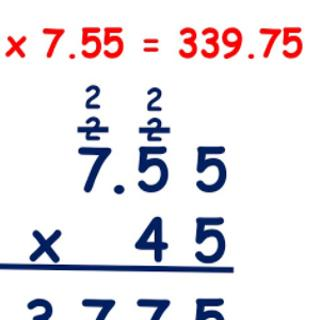.: (109, 180, 128, 200), (246, 49, 256, 64), (68, 51, 75, 62)
3: (174, 23, 199, 61), (197, 25, 222, 61)
4: (128, 210, 174, 265)
5: (190, 137, 233, 206), (188, 213, 230, 265), (133, 144, 171, 197), (278, 19, 309, 65), (101, 20, 127, 64), (78, 18, 102, 63)
7: (72, 144, 113, 198), (37, 23, 67, 63), (258, 20, 281, 67)
9: (222, 26, 244, 61)
